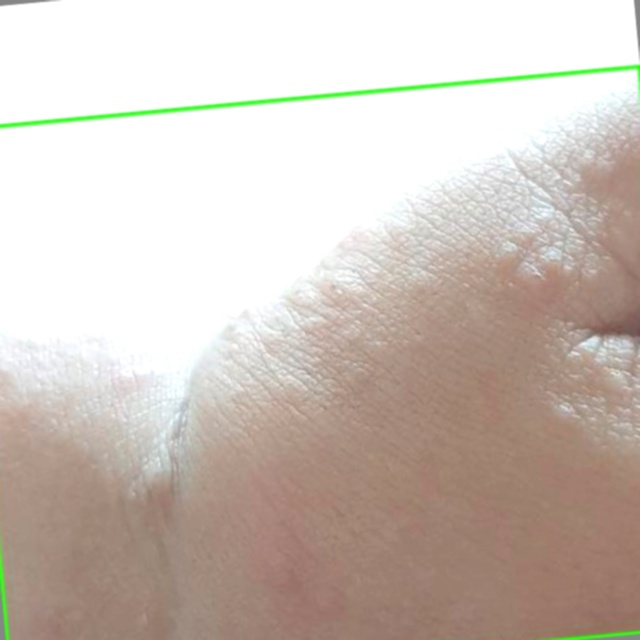Scabies: (0, 66, 639, 639)
